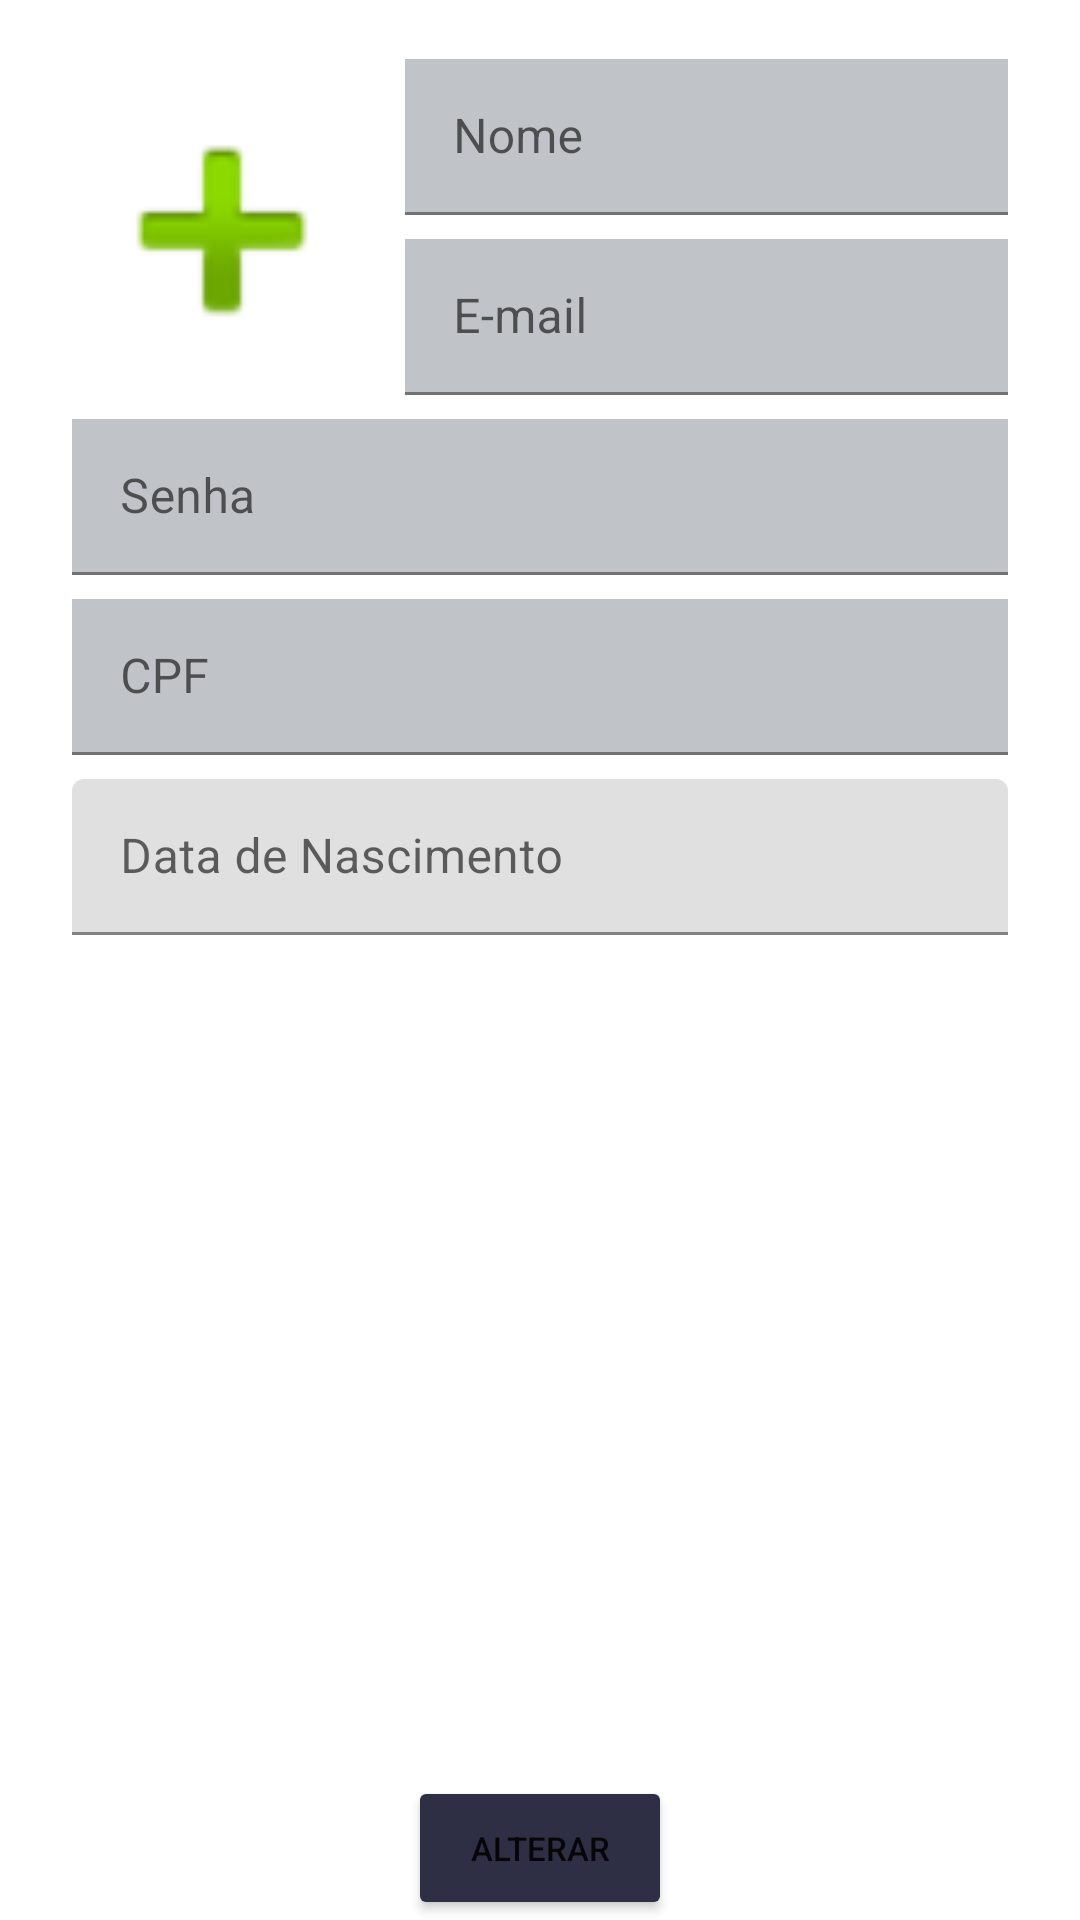

Icons on this 1080*1920 Android screen, each with the point to tap as (x=x, y=y):
add: (x=222, y=231)
